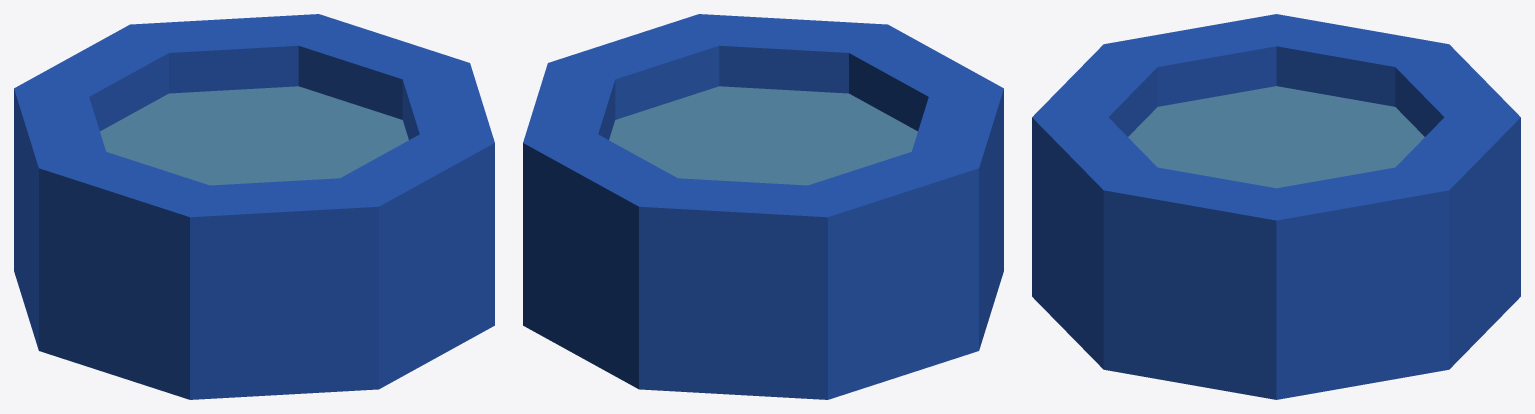
Rendered from WaterBowl.fbx.
3 renders of one model, left to right at view 1: azimuth 30°, elevation 25°; view 2: azimuth 150°, elevation 25°; view 3: azimuth 270°, elevation 25°, orthographic.
Parts seen in each view (by area): view 1: Bebedouro; view 2: Bebedouro; view 3: Bebedouro.
Part boxes in pixels (x1,y1,x2,y2): Bebedouro: (14, 14, 494, 399); Bebedouro: (523, 14, 1003, 399); Bebedouro: (1032, 14, 1520, 399).
Bounding box in the file's own units: 2.37 × 0.9584 × 2.37.
